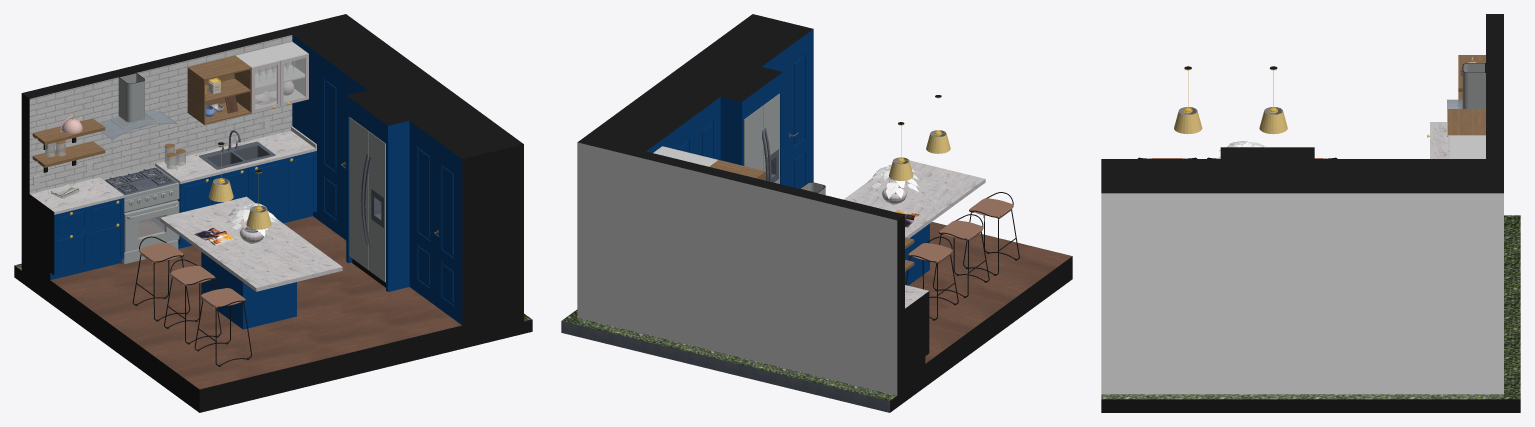
File: cocina.glb
3 views of the same model, side by side, from view 1: azimuth 30°, elevation 25°; view 2: azimuth 150°, elevation 25°; view 3: azimuth 270°, elevation 25° (orthographic). The views are drawn at different scales.
Parts seen in each view (by area): view 1: Material13 (×2), Material6, Material17, Material24, Material25, Material51, Material26, Material2, Material20 (×2), Material107 (×2), Material30, Material52 (+5 smaller); view 2: Material2, Material13 (×2), Material6, Material17, Material25, Material33, Material32, Material51, Material107 (×2), Material31, Material16, Material26 (+2 smaller); view 3: Material4, Material13 (×2), Material32, Material2, Material26, Material31, Material67, Material25, Material16.
Boxes of the visible parts, box(x1,y1,x2,y2) form: Material13 (×2): box(14, 14, 532, 412); Material6: box(50, 35, 462, 329); Material17: box(50, 216, 461, 389); Material24: box(29, 35, 292, 193); Material25: box(30, 126, 342, 291); Material51: box(102, 117, 385, 282); Material26: box(32, 55, 251, 167); Material2: box(33, 41, 307, 229); Material20 (×2): box(199, 130, 438, 247); Material107 (×2): box(138, 242, 246, 308); Material30: box(167, 58, 305, 168); Material52: box(104, 167, 381, 264); Material2: box(577, 130, 950, 397); Material13 (×2): box(562, 14, 1072, 412); Material6: box(646, 29, 929, 285); Material17: box(908, 222, 1072, 363); Material25: box(844, 160, 985, 308); Material33: box(561, 321, 889, 412); Material32: box(562, 309, 896, 400); Material51: box(744, 93, 779, 183); Material107 (×2): box(908, 198, 1013, 263); Material31: box(889, 97, 950, 180); Material16: box(580, 322, 892, 399); Material26: box(709, 160, 914, 271); Material4: box(1101, 193, 1503, 397); Material13 (×2): box(1101, 14, 1520, 412); Material32: box(1101, 215, 1520, 399); Material2: box(1174, 107, 1485, 158); Material26: box(1448, 55, 1485, 135); Material31: box(1174, 68, 1287, 134); Material67: box(1458, 63, 1485, 108); Material25: box(1430, 122, 1447, 158); Material16: box(1101, 398, 1501, 398).
Bounding box in the file's own units: 4.59 × 2.5 × 4.42.
45 materials, 19 textured.
